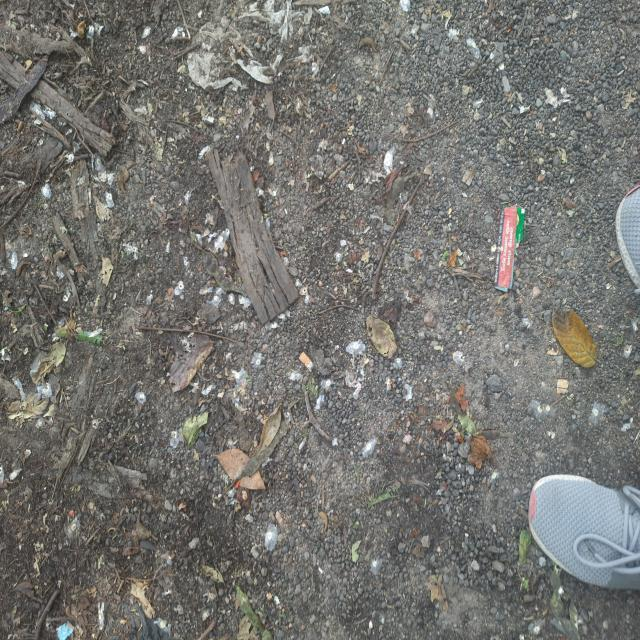Cig_bud: (299, 352, 314, 372)
